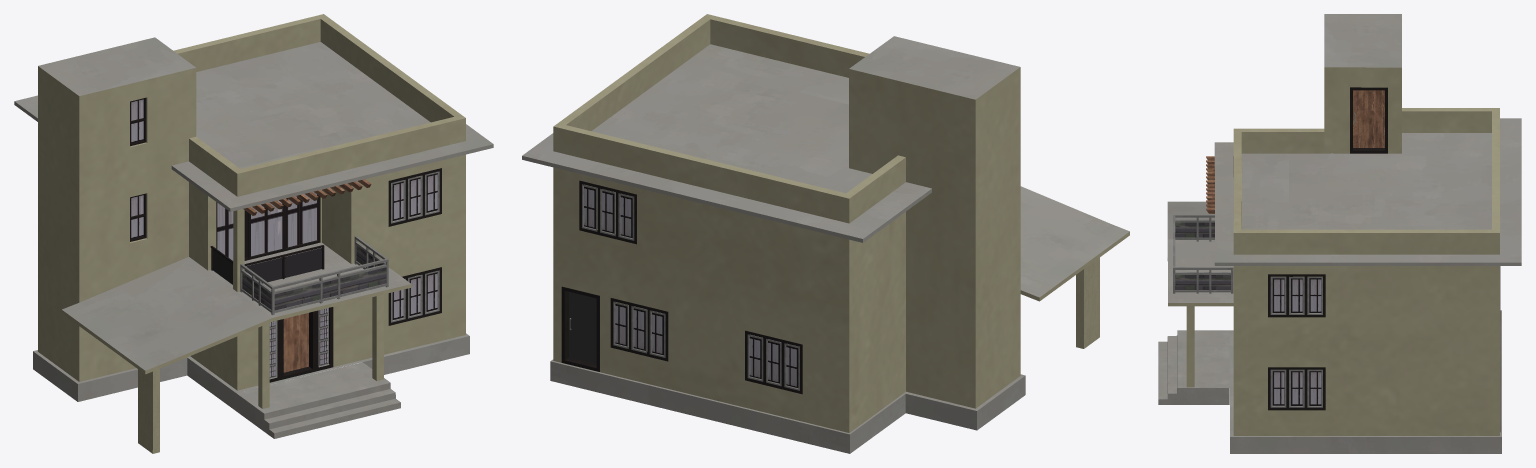
The model's file is poshHouse2.fbx.
The picture shows the model from 3 angles, left to right: view 1: azimuth 30°, elevation 25°; view 2: azimuth 150°, elevation 25°; view 3: azimuth 270°, elevation 25°; orthographic projection. The views are drawn at different scales.
Parts seen in each view (by area): view 1: poshHouse2; view 2: poshHouse2; view 3: poshHouse2.
Part boxes in pixels (x1,y1,x2,y2): poshHouse2: (14,14,493,453); poshHouse2: (522,14,1129,453); poshHouse2: (1158,14,1521,453).
Size of the model in its own units: 1277 by 993 by 1149.
